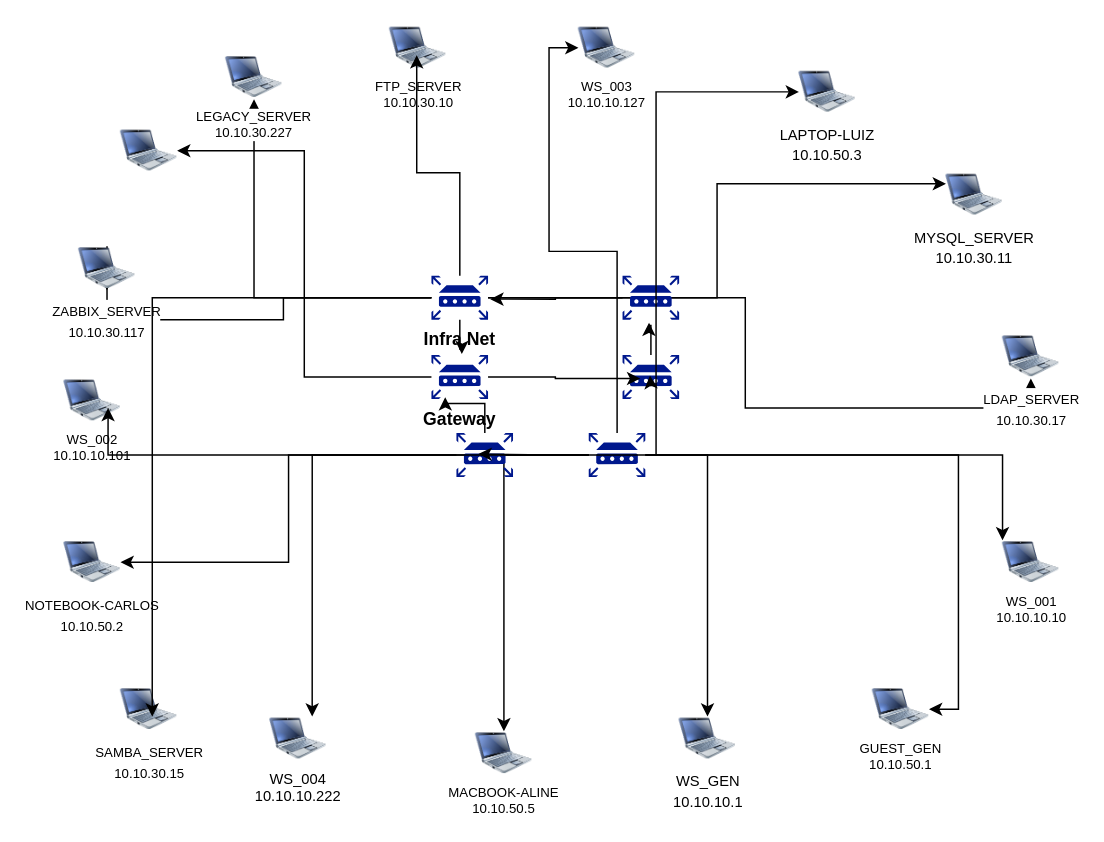
Image size: 1104x842. Some labels were removed from this diagram. The centre of each missing label's shape, as x and y in pixels:
Corp Net: point 616,454
Firewall/VPN: point 650,376
Guest Net: point 484,454
Internet: point 650,297
LAPTOP-VASTRO 10.10.50.4: point 148,150
